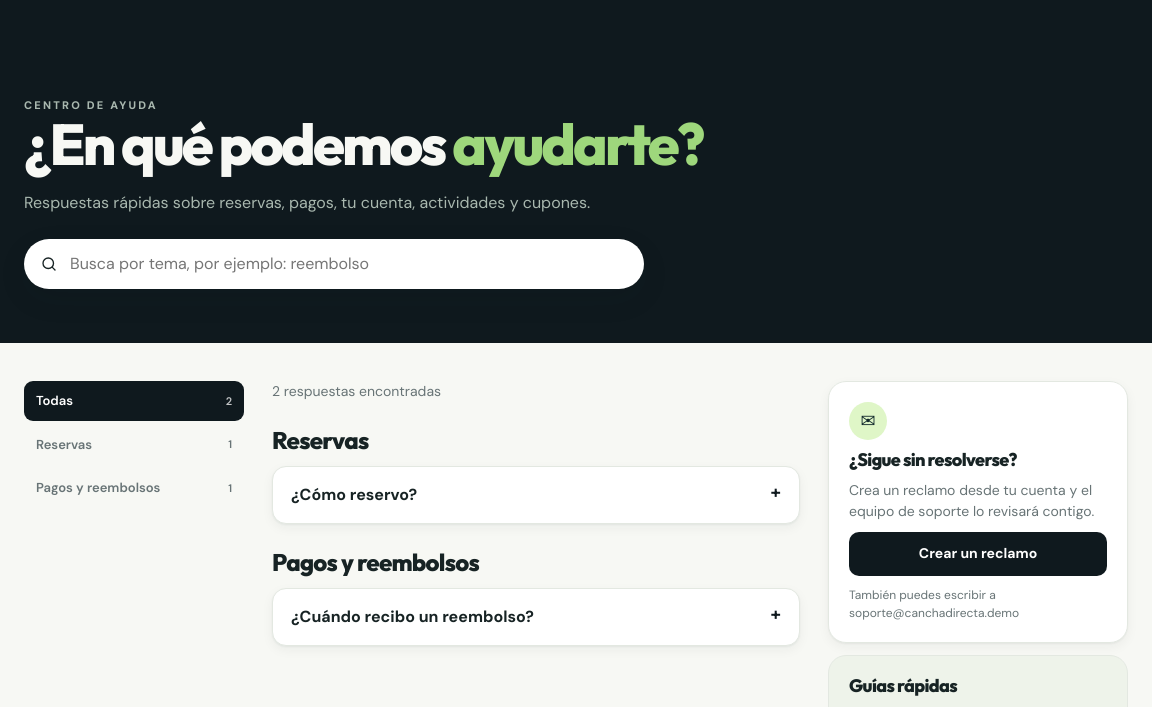
Test: AyudaComponent › muestra las preguntas y filtra por texto
The width and height of the screenshot is (1152, 707).
Type "reembolso" into the search field with placeholder "Busca por tema, por ejemplo: reembolso" at (348, 264), box [68,251,628,277]
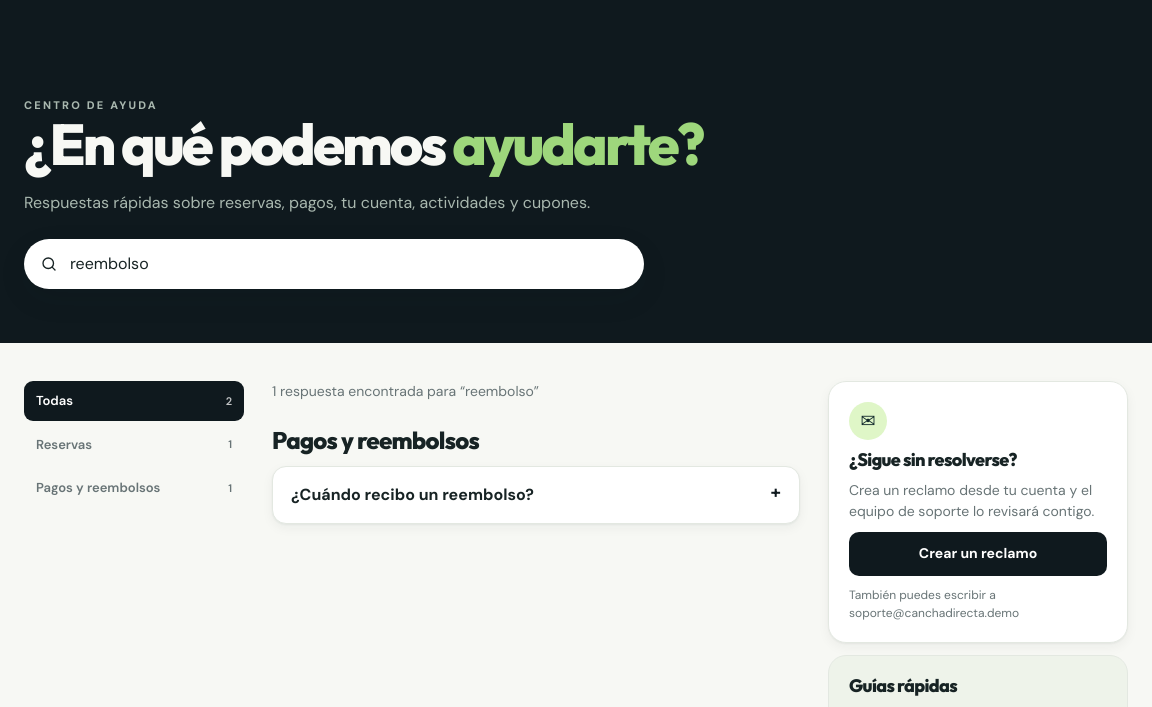
Expected: the text "¿Cuándo recibo un reembolso?" is shown, [291,484,534,505]
Expected: the text "¿Cómo reservo?" is gone
